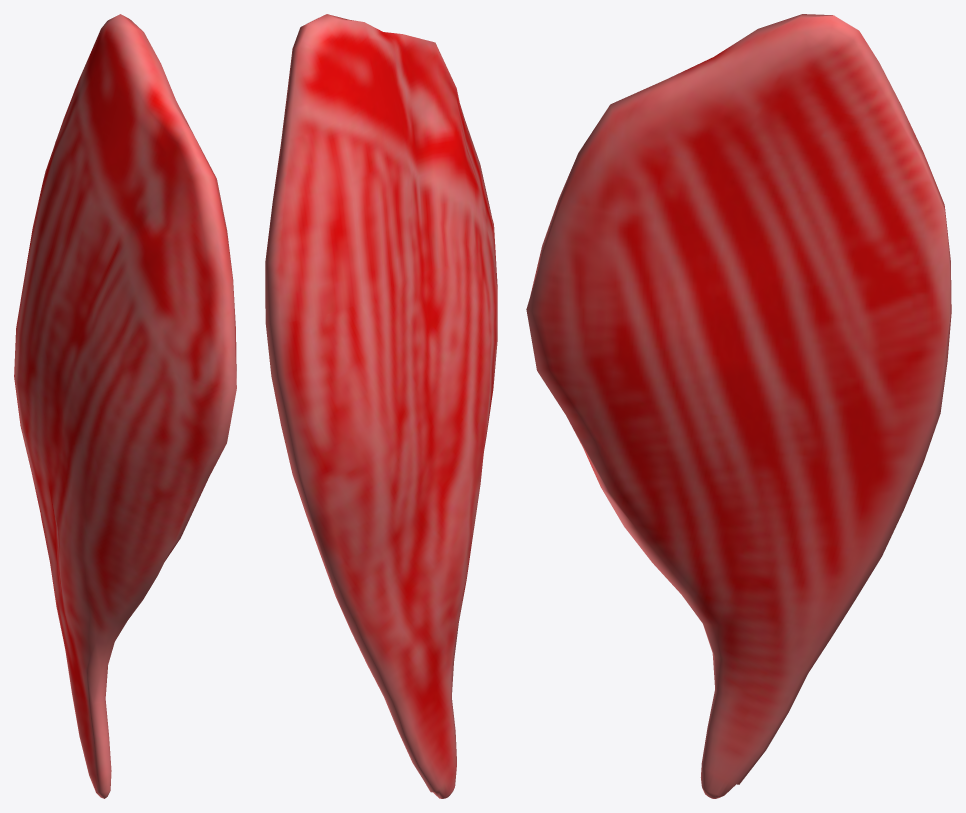
The model's file is Tricep_2.glb.
3 renders of one model, left to right at view 1: azimuth 30°, elevation 25°; view 2: azimuth 150°, elevation 25°; view 3: azimuth 270°, elevation 25°, orthographic. The views are drawn at different scales.
Parts seen in each view (by area): view 1: MuscleTricep_2R1.008; view 2: MuscleTricep_2R1.008; view 3: MuscleTricep_2R1.008.
Boxes of the visible parts, x1,y1,x2,y2 form: MuscleTricep_2R1.008: (14, 14, 236, 798); MuscleTricep_2R1.008: (265, 14, 497, 798); MuscleTricep_2R1.008: (526, 14, 951, 798).
Size of the model in its own units: 0.0794 by 0.4982 by 0.2336.
Materials: 1 (1 with a texture image).
